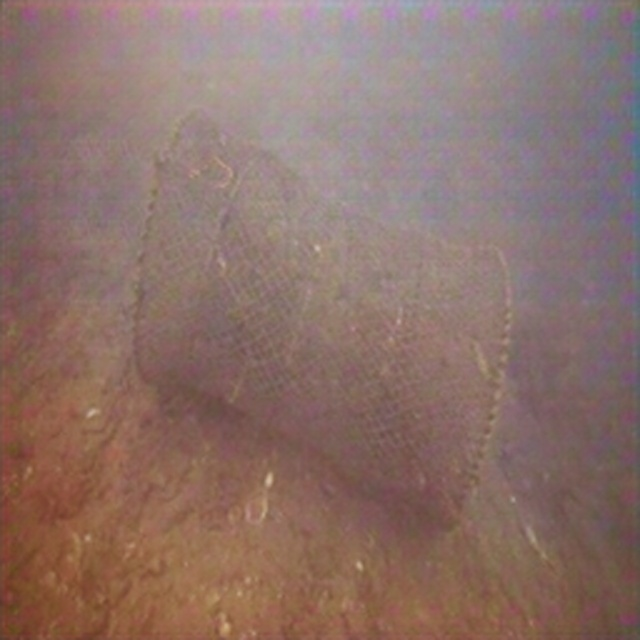mine: (130, 104, 513, 534)
